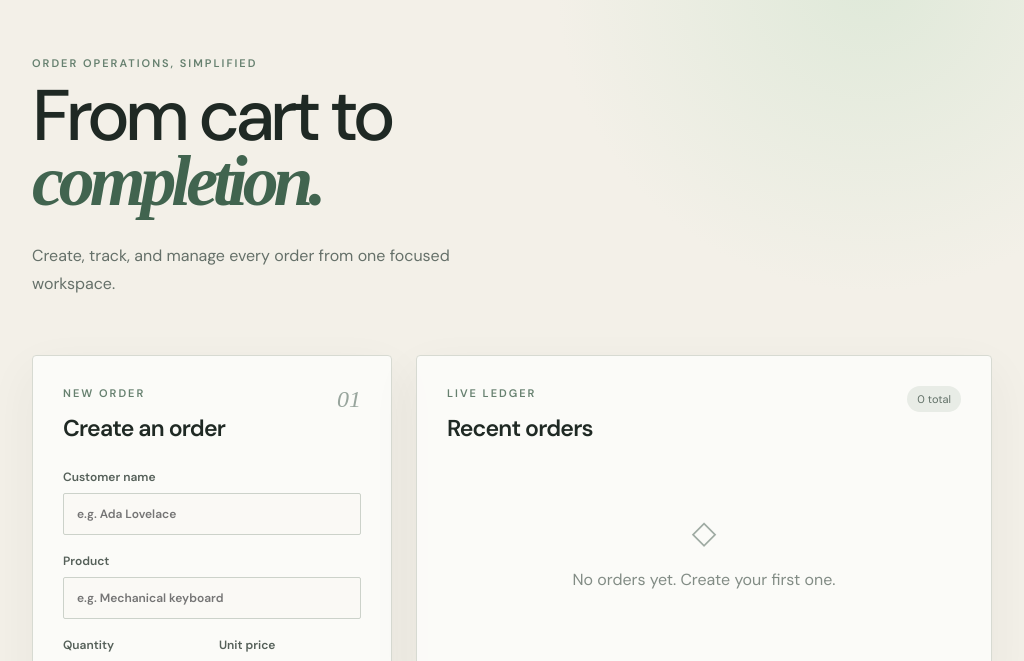
Test: OrderFlow app › submits and displays a new order
The image size is (1024, 661).
Expected: the text "No orders yet. Create your first one." is shown, [572,569,836,590]
Type "Ada Lovelace" into the field labelled "Customer name" at (212, 514), box [63,493,361,535]
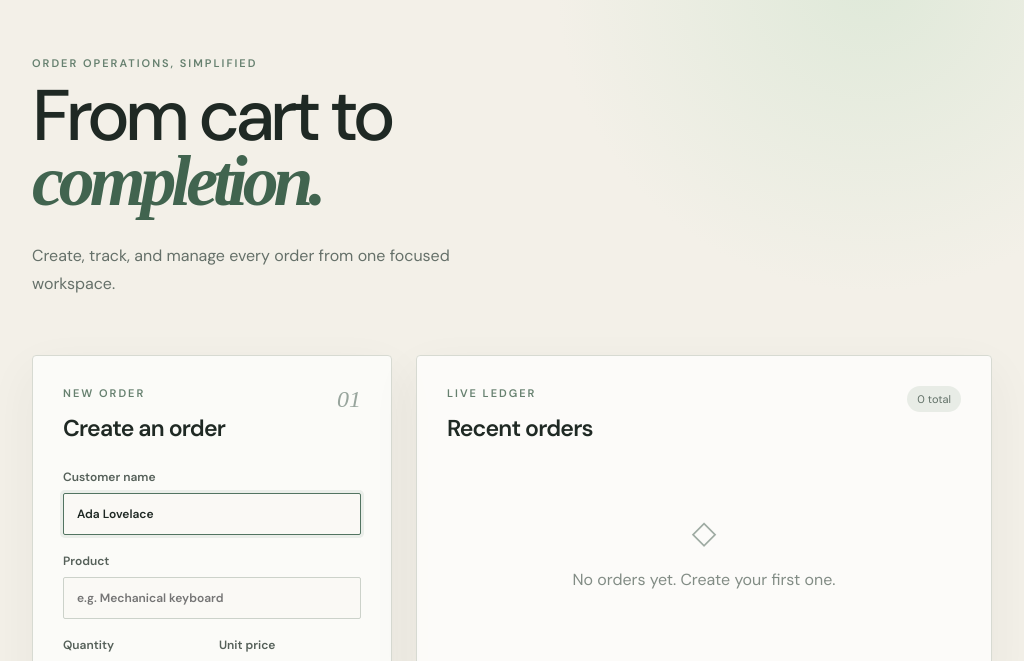
Type "Keyboard" into the field labelled "Product" at (212, 598), box [63,577,361,619]
(page scrolled)
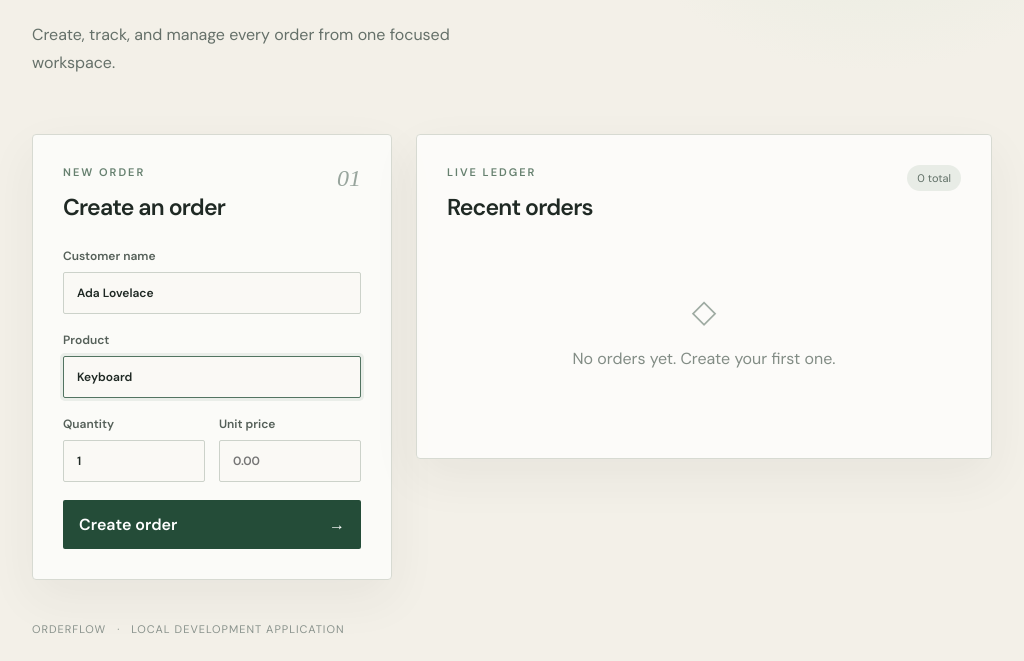
Replace the text in the number field labelled "Quantity" with "2" at (134, 461), box [63,440,205,482]
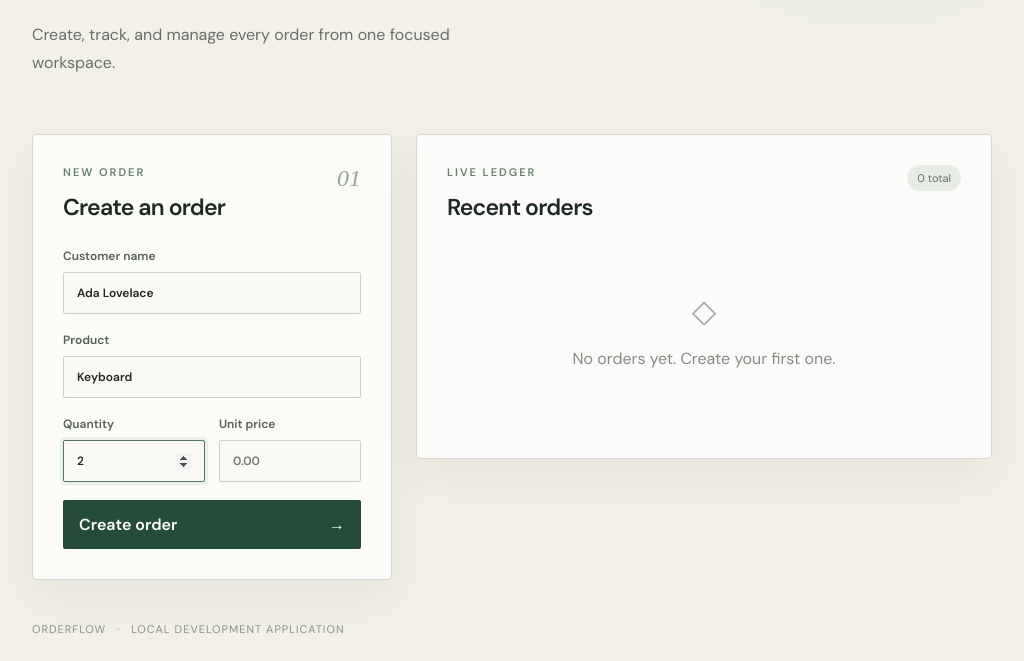
Type "75" into the number field labelled "Unit price" at (290, 461), box [219,440,361,482]
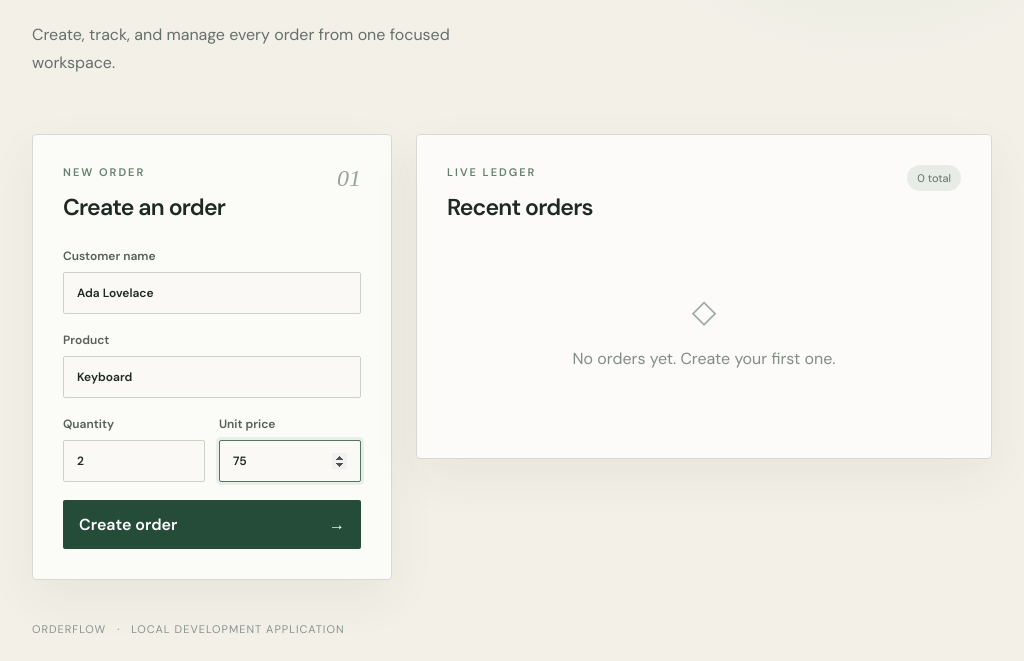
Click the button "Create order →" at (128, 524), box [63,500,361,549]
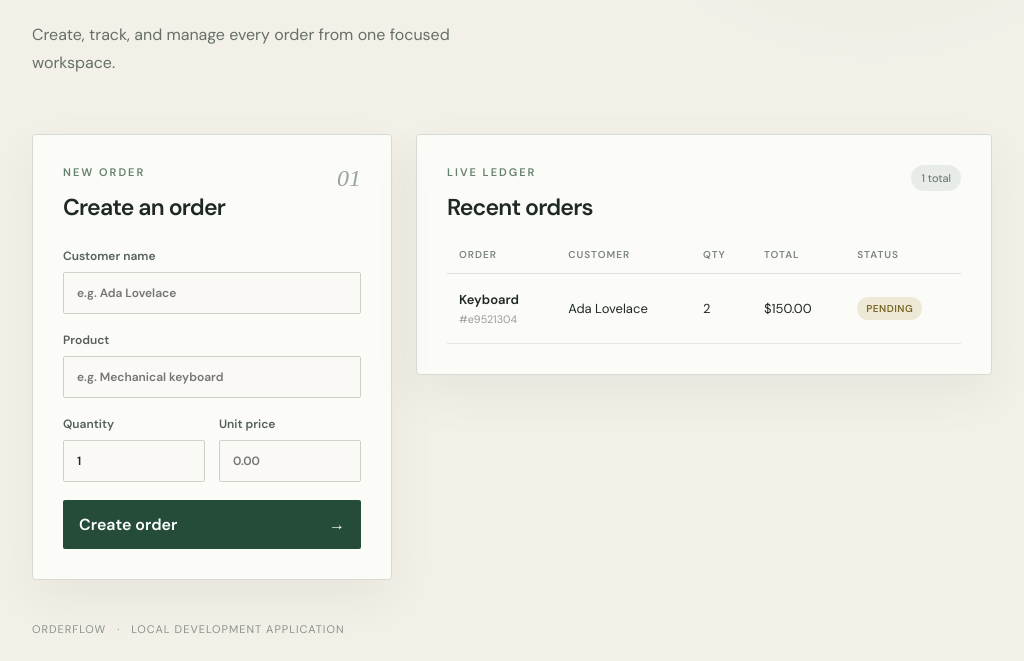
Expected: the text "Keyboard" is shown, [459,291,519,308]
Expected: the text "$150.00" is shown, [752,273,845,343]
